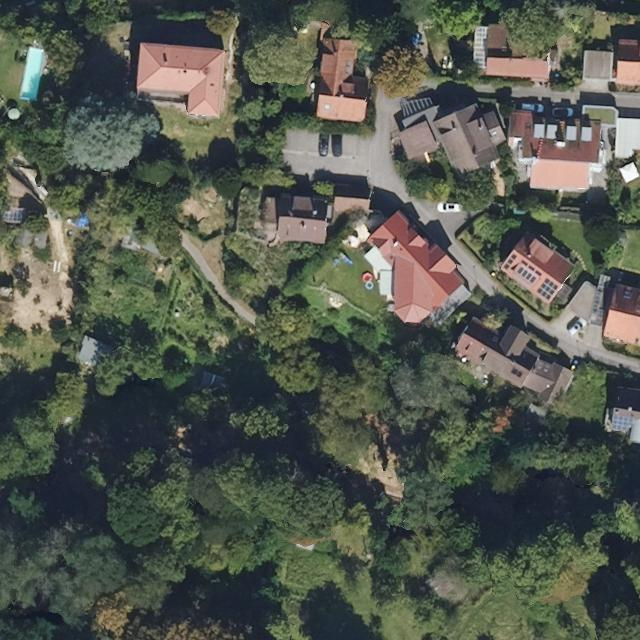PV: (536, 277, 559, 302), (611, 414, 635, 433), (516, 265, 538, 284), (501, 252, 519, 272), (3, 209, 25, 223)
